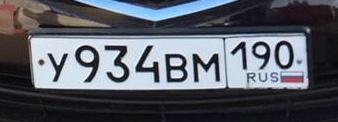license-plateSW: (26, 36, 312, 90)
